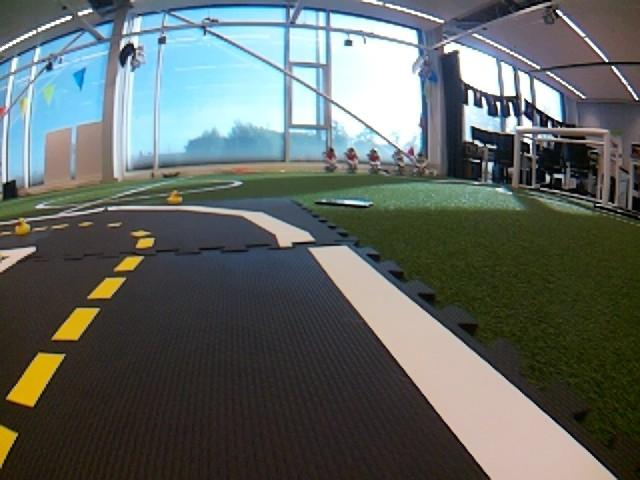Duckies: (15, 219, 30, 234), (167, 192, 182, 204)
